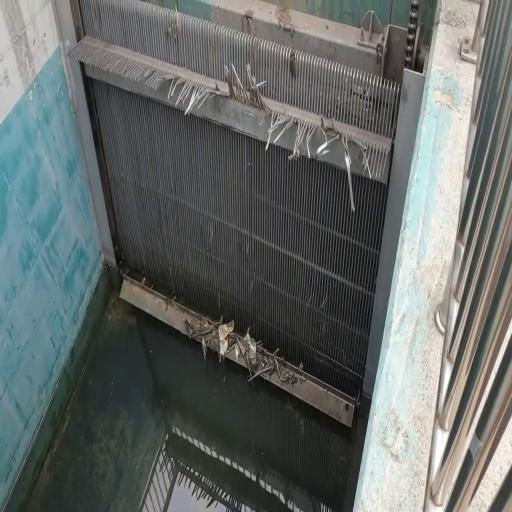rake: (66, 0, 423, 427)
rake_broken: (317, 109, 376, 221), (205, 55, 271, 122), (158, 60, 212, 121), (284, 101, 323, 172), (254, 96, 294, 162), (129, 50, 169, 95)
